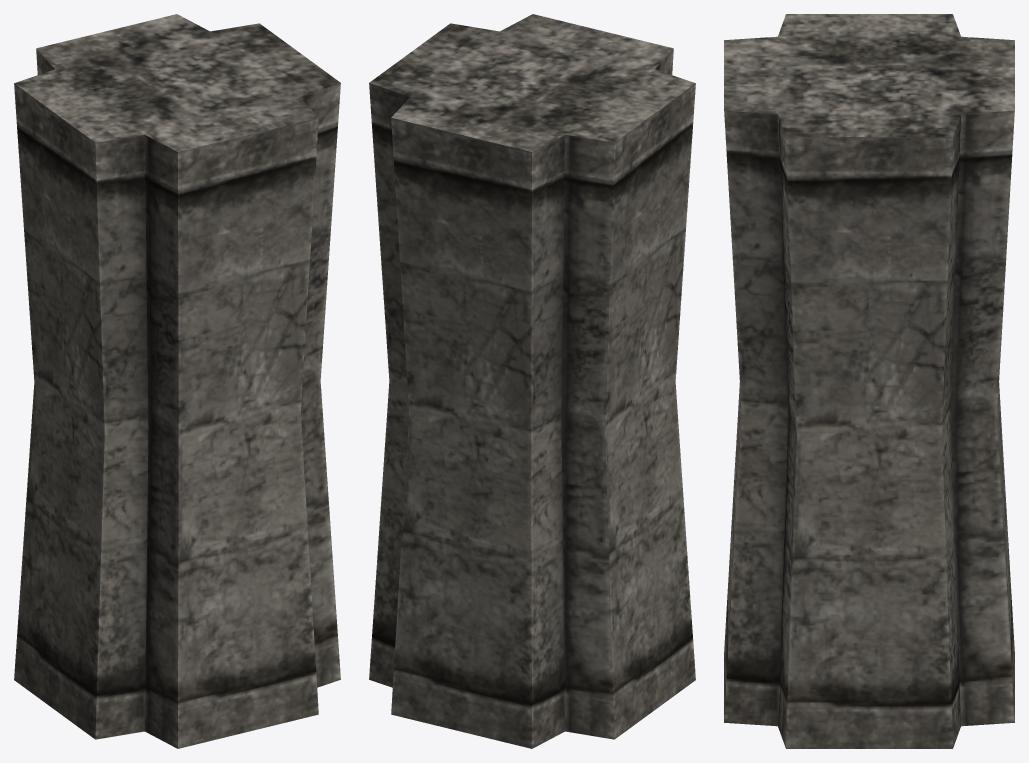
Rendered from Pillar1B_LOD1.fbx.
3 views of the same model, side by side, from view 1: azimuth 30°, elevation 25°; view 2: azimuth 150°, elevation 25°; view 3: azimuth 270°, elevation 25° (orthographic). The views are drawn at different scales.
Visible parts, largest first — view 1: polySurface77; view 2: polySurface77; view 3: polySurface77.
Boxes of the visible parts, box(x1,y1,x2,y2) form: polySurface77: box(14, 14, 340, 748); polySurface77: box(369, 14, 695, 748); polySurface77: box(724, 14, 1014, 748).
Bounding box in the file's own units: 2.33 × 5.41 × 2.33.
